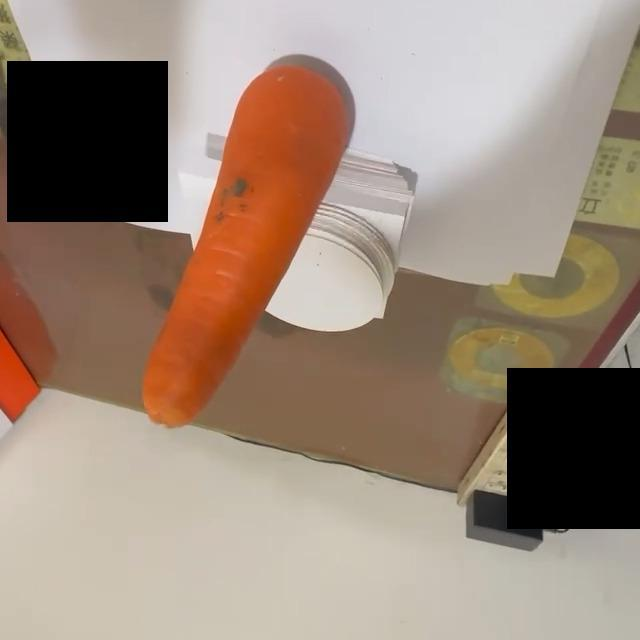carrot: (144, 64, 359, 435)
